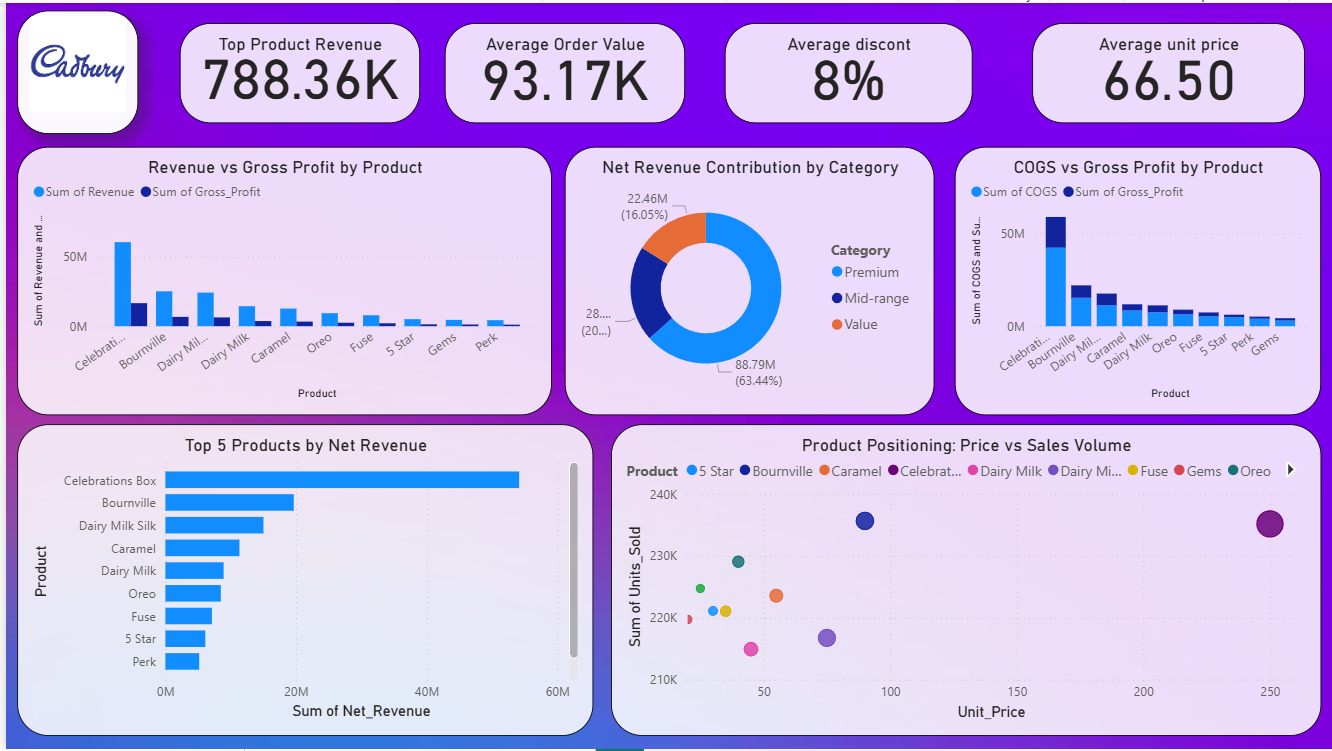

The page's visual inventory and layout, read from the dashboard file:
{"tool":"powerbi","page":{"name":"Product Performance & Profitability Dashboard","canvas":[1280,720],"ordinal":1},"visuals":[{"type":"image","box":[10.9,7.2,117,119.4],"z":0},{"type":"clusteredColumnChart","title":"Revenue vs Gross Profit by Product","fields":{"Category":["Product_Master.Product"],"Y":["Sum(Sales_Data.Revenue)","Sum(Sales_Data.Gross_Profit)"]},"box":[10.9,138.7,516.4,259.4],"z":1000},{"type":"donutChart","title":"Net Revenue Contribution by Category","fields":{"Category":["Sales_Data.Category"],"Y":["Sum(Sales_Data.Net_Revenue)"]},"box":[539.3,138.7,357.1,259.4],"z":2000},{"type":"columnChart","title":"COGS vs Gross Profit by Product","fields":{"Category":["Sales_Data.Product"],"Y":["Sum(Sales_Data.COGS)","Sum(Sales_Data.Gross_Profit)"]},"box":[915.7,138.7,353.5,259.4],"z":3000},{"type":"scatterChart","title":"Product Positioning: Price vs Sales Volume","fields":{"X":["Product_Master.Unit_Price"],"Y":["Sum(Sales_Data.Units_Sold)"],"Series":["Sales_Data.Product"],"Size":["Sum(Sales_Data.Revenue)"]},"box":[583.9,406.6,685.3,300.4],"z":4000},{"type":"clusteredBarChart","title":"Top 5 Products by Net Revenue","fields":{"Category":["Sales_Data.Product"],"Y":["Sum(Sales_Data.Net_Revenue)"]},"box":[10.9,406.6,556.2,300.4],"z":5000},{"type":"card","title":"Top Product Revenue","fields":{"Values":["KPI_Targets.Top Product Revenue"]},"box":[167.7,19.3,231.6,96.5],"z":6000},{"type":"card","title":"Average Order Value","fields":{"Values":["KPI_Targets.Avg Order Value"]},"box":[423.5,19.3,231.6,96.5],"z":7000},{"type":"card","title":"Average discont","fields":{"Values":["KPI_Targets.Avg Discount"]},"box":[693.7,19.3,238.9,96.5],"z":8000},{"type":"card","title":"Average unit price ","fields":{"Values":["KPI_Targets.Avg Unit Price"]},"box":[990.5,19.3,263,96.5],"z":9000}]}

Visuals, with their boxes in screenshot pixels (x1, y1, x2, y2), scaled from the page's 1280x720 canvas onto the 1332x751 screenshot:
image: [11, 8, 133, 132]
"Revenue vs Gross Profit by Product" clusteredColumnChart: [11, 145, 549, 415]
"Net Revenue Contribution by Category" donutChart: [561, 145, 933, 415]
"COGS vs Gross Profit by Product" columnChart: [953, 145, 1321, 415]
"Product Positioning: Price vs Sales Volume" scatterChart: [608, 424, 1321, 737]
"Top 5 Products by Net Revenue" clusteredBarChart: [11, 424, 590, 737]
"Top Product Revenue" card: [175, 20, 416, 121]
"Average Order Value" card: [441, 20, 682, 121]
"Average discont" card: [722, 20, 970, 121]
"Average unit price " card: [1031, 20, 1304, 121]
